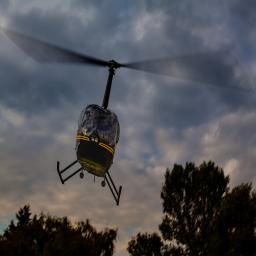helicopter: (1, 28, 202, 208)
